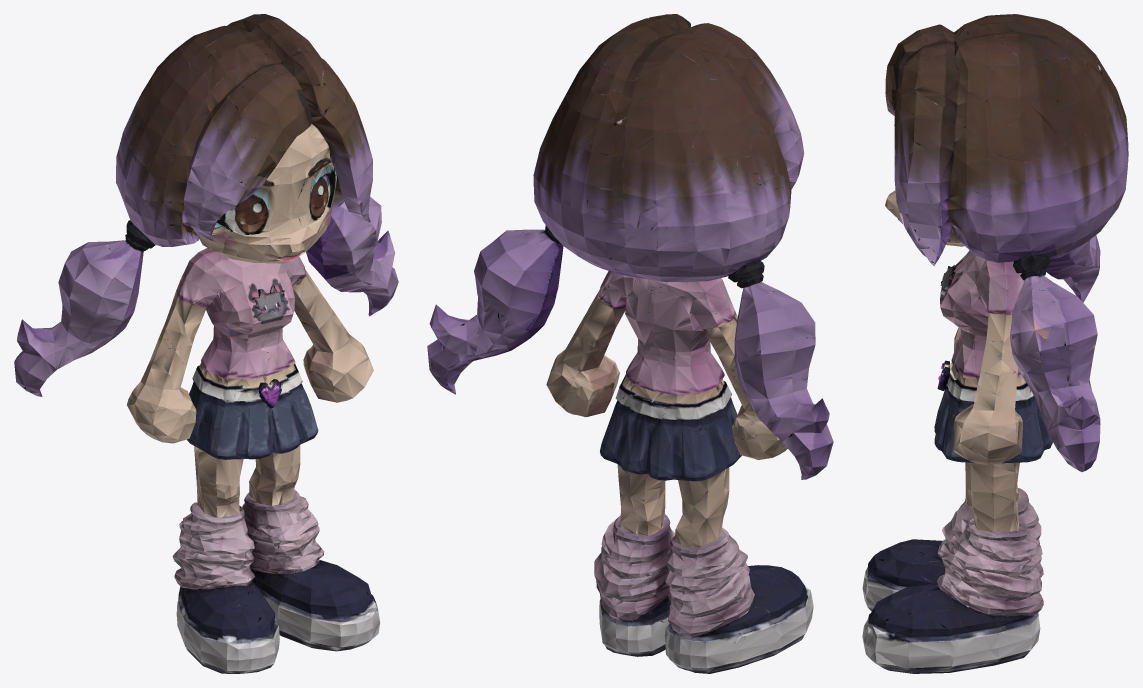
File: ballerina.glb
3 renders of one model, left to right at view 1: azimuth 30°, elevation 25°; view 2: azimuth 150°, elevation 25°; view 3: azimuth 270°, elevation 25°, orthographic. The views are drawn at different scales.
Visible parts, largest first — view 1: Corpo, Ciocca 2, Ciocca 1; view 2: Corpo, Ciocca 2, Ciocca 1; view 3: Corpo, Ciocca 1, Ciocca 2.
Boxes of the visible parts, x1,y1,x2,y2 form: Corpo: (116,14,380,673); Ciocca 2: (14,240,143,396); Ciocca 1: (306,196,398,316); Corpo: (533,14,813,673); Ciocca 2: (734,281,833,479); Ciocca 1: (427,229,563,394); Corpo: (862,14,1128,673); Ciocca 1: (1010,275,1100,471); Ciocca 2: (1044,235,1100,302).
Bounding box in the file's own units: 0.6815 × 0.9998 × 0.3923.
Materials: 1 (1 with a texture image).
